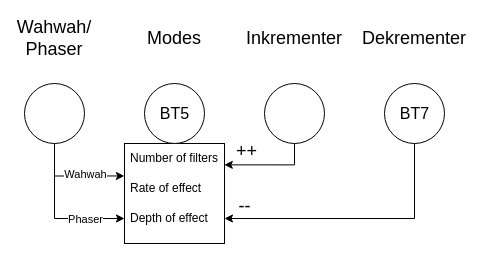
The diagram is 483 pixels wide and 261 high, and some of its shapes have lost their labels. Here are the shapes that lost their labels. From the top down, the centre of each, then its label:
At [54,113]: "BT4".
At [294,113]: "BT6".
